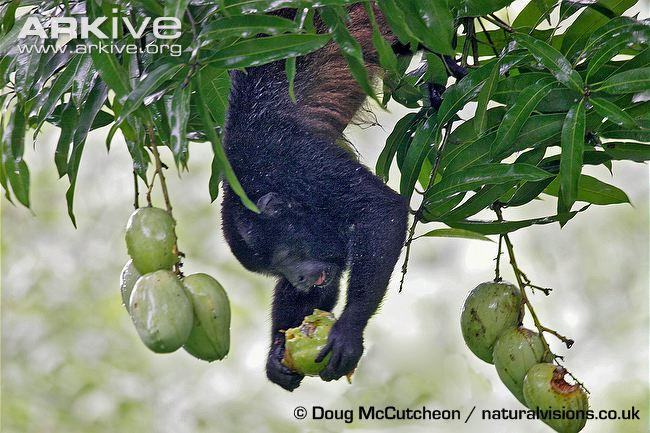monkey: (215, 48, 410, 392)
